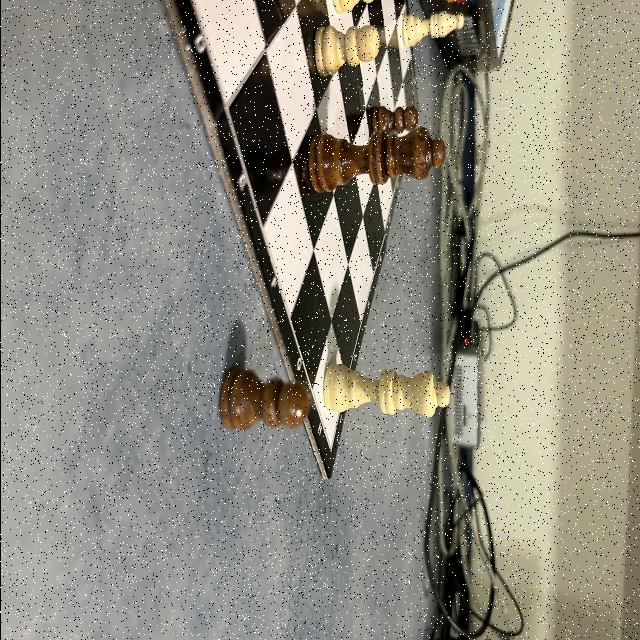Black-Pawn: (220, 367, 306, 432), (371, 107, 417, 135)
Black-Queen: (310, 127, 444, 193)
White-Bishop: (402, 12, 464, 46)
White-Pawn: (314, 25, 379, 77), (331, 0, 376, 11)
White-Queen: (322, 362, 448, 418)
